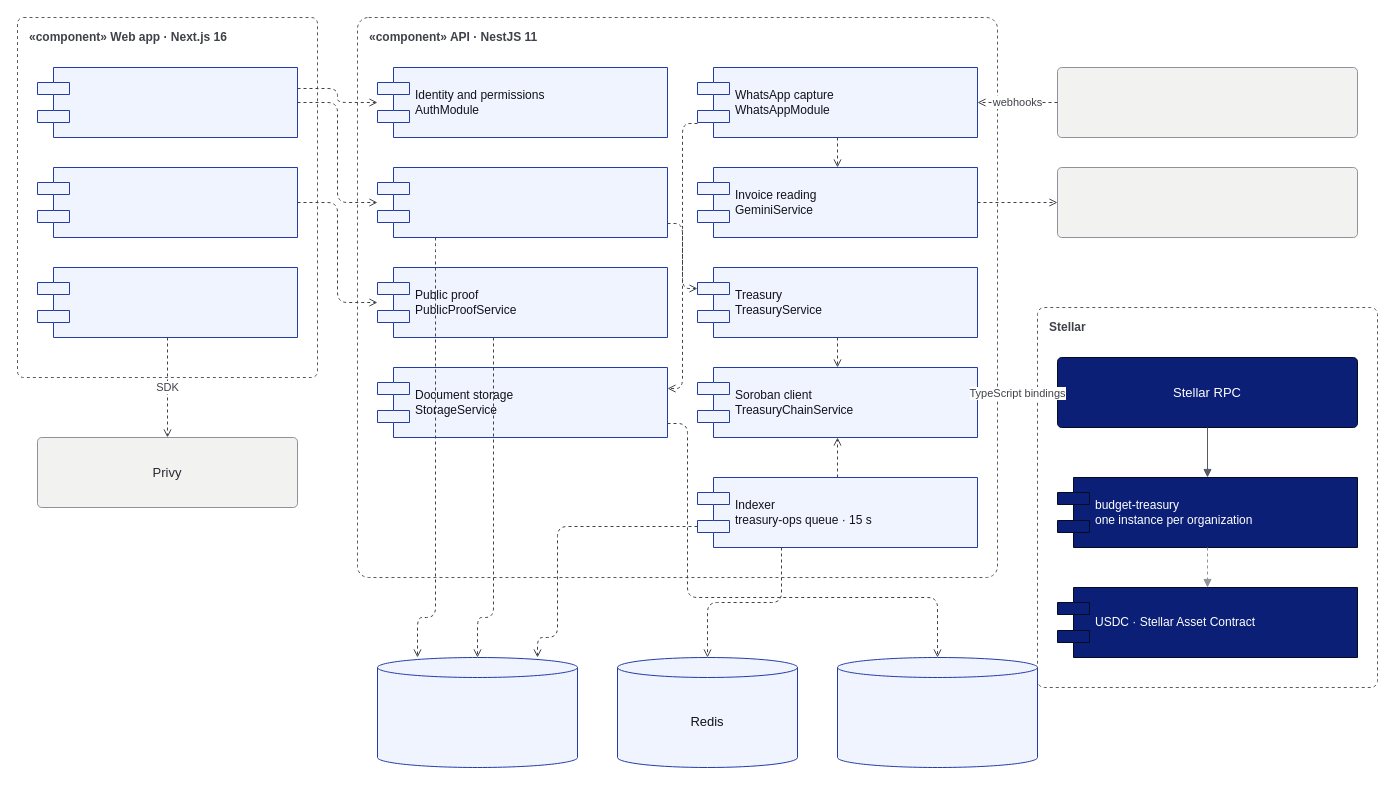
This 1395x785 diagram has some shape labels left out. The centre of each missing label's shape, as x and y in pixels:
"Dashboard and approvals" belongs at point (167, 102).
"Embedded signer (Privy SDK)" belongs at point (167, 302).
"Google Gemini" belongs at point (1207, 202).
"Object storage" belongs at point (937, 712).
"PostgreSQL" belongs at point (477, 712).
"Programs and budget ProjectsModule" belongs at point (522, 202).
"Public explorer /proof" belongs at point (167, 202).
"WhatsApp Cloud API" belongs at point (1207, 102).
